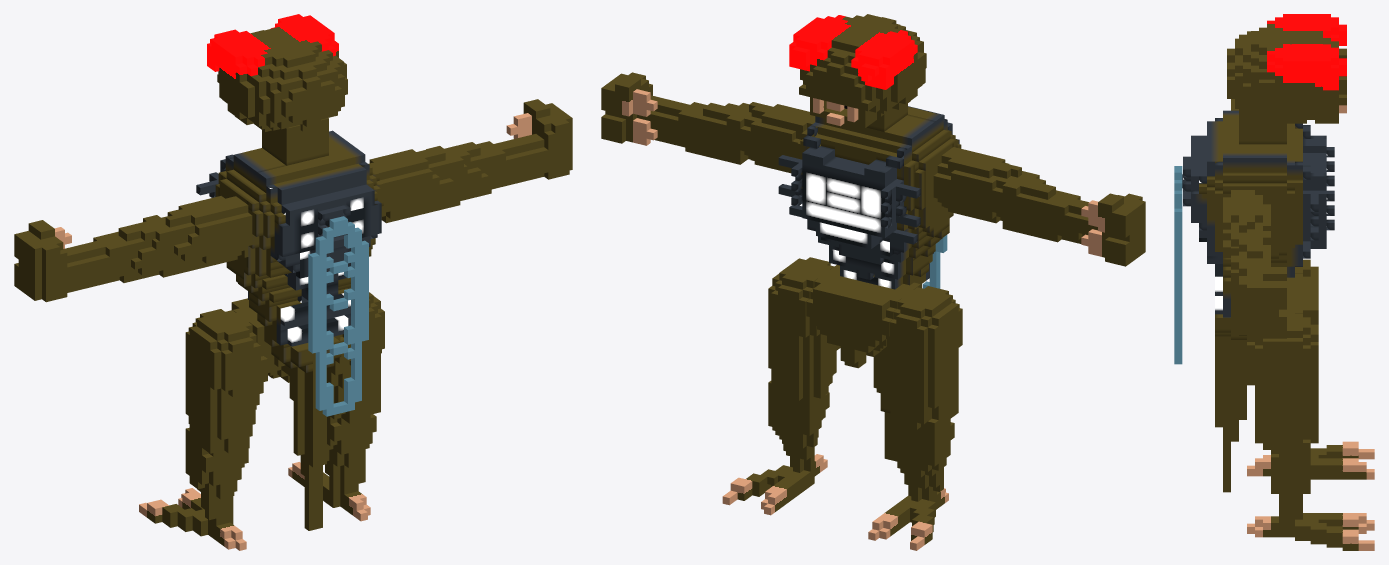
The model's file is Gunslinger.dae.
The picture shows the model from 3 angles, left to right: view 1: azimuth 30°, elevation 25°; view 2: azimuth 150°, elevation 25°; view 3: azimuth 270°, elevation 25°; orthographic projection. The views are drawn at different scales.
Parts seen in each view (by area): view 1: Body-local, Head-local, RLeg-local, RWrist-local, LWrist-local, RAnkle-local, RArm-local, LWing-local, LArm-local, LAnkle-local, RWing-local, LLeg-local (+1 smaller); view 2: Body-local, Head-local, RLeg-local, RWrist-local, LWrist-local, LLeg-local, Waist-local, RAnkle-local, LAnkle-local, RArm-local, LArm-local; view 3: Body-local, Head-local, LLeg-local, LAnkle-local, LWrist-local, RAnkle-local, LArm-local, LWing-local, Waist-local, RWing-local, RLeg-local.
Part boxes in pixels (x1=…): Body-local: x1=196, y1=118, x2=383, y2=530; Head-local: x1=207, y1=14, x2=347, y2=131; RLeg-local: x1=185, y1=309, x2=267, y2=453; RWrist-local: x1=14, y1=215, x2=177, y2=302; LWrist-local: x1=426, y1=99, x2=572, y2=208; RAnkle-local: x1=139, y1=427, x2=248, y2=550; RArm-local: x1=148, y1=196, x2=255, y2=276; LWing-local: x1=315, y1=216, x2=368, y2=414; LArm-local: x1=368, y1=148, x2=463, y2=223; LAnkle-local: x1=288, y1=414, x2=376, y2=521; RWing-local: x1=308, y1=225, x2=361, y2=416; LLeg-local: x1=327, y1=292, x2=384, y2=423; Body-local: x1=778, y1=103, x2=961, y2=461; Head-local: x1=789, y1=14, x2=926, y2=128; RLeg-local: x1=886, y1=286, x2=962, y2=429; RWrist-local: x1=1002, y1=178, x2=1145, y2=266; LWrist-local: x1=601, y1=72, x2=748, y2=164; LLeg-local: x1=768, y1=257, x2=840, y2=400; Waist-local: x1=806, y1=265, x2=920, y2=368; RAnkle-local: x1=868, y1=407, x2=954, y2=550; LAnkle-local: x1=722, y1=381, x2=829, y2=515; RArm-local: x1=933, y1=147, x2=1039, y2=223; LArm-local: x1=730, y1=102, x2=820, y2=173; Body-local: x1=1182, y1=109, x2=1334, y2=492; Head-local: x1=1227, y1=14, x2=1346, y2=123; LLeg-local: x1=1247, y1=314, x2=1318, y2=449; LAnkle-local: x1=1247, y1=435, x2=1374, y2=550; LWrist-local: x1=1231, y1=231, x2=1286, y2=338; RAnkle-local: x1=1247, y1=441, x2=1374, y2=479; LArm-local: x1=1223, y1=190, x2=1270, y2=258; LWing-local: x1=1174, y1=166, x2=1182, y2=364; Waist-local: x1=1287, y1=273, x2=1318, y2=324; RWing-local: x1=1174, y1=166, x2=1182, y2=338; RLeg-local: x1=1295, y1=259, x2=1318, y2=276.
Bounding box in the file's own units: 76 × 64.37 × 25.1.
